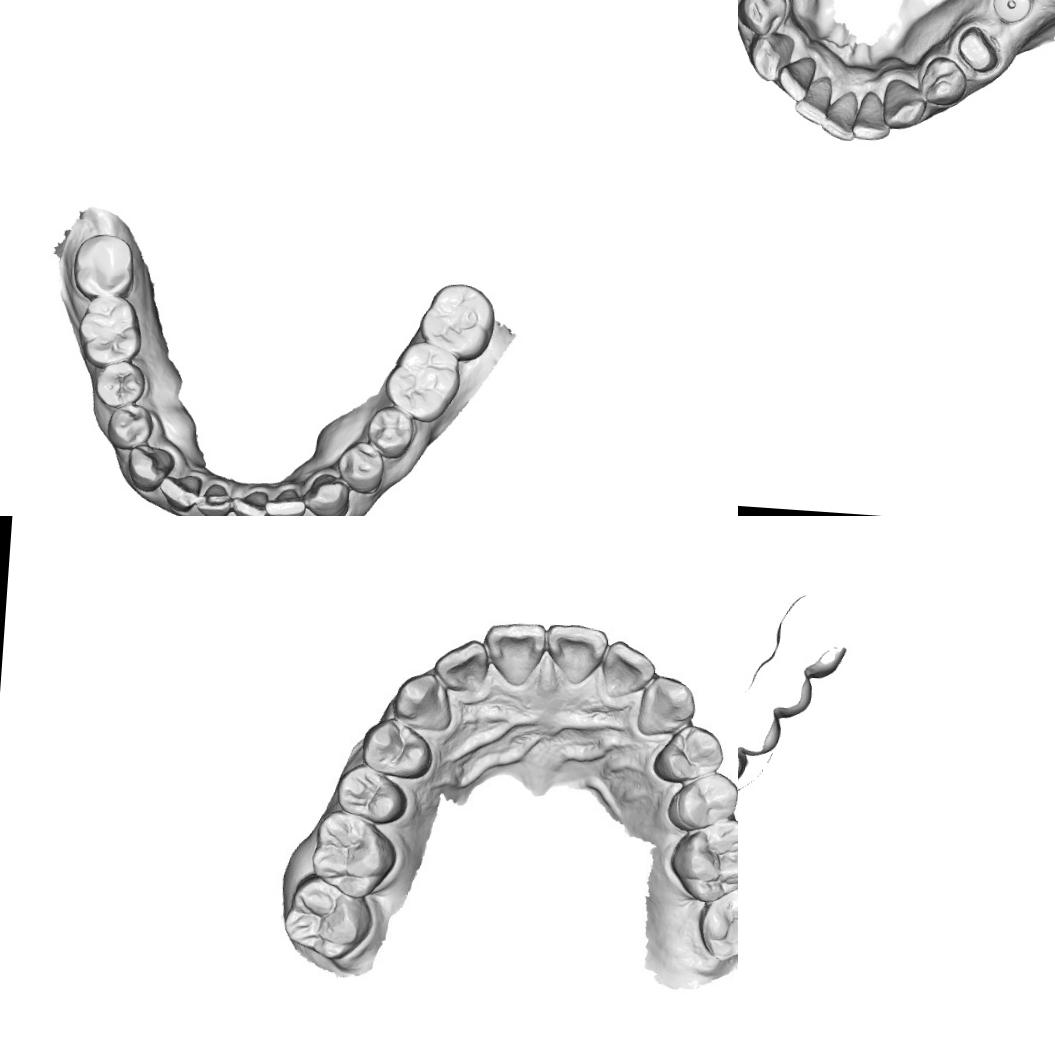canine: (634, 672, 698, 739), (390, 669, 454, 732), (744, 29, 796, 84), (878, 76, 928, 132), (124, 441, 176, 494), (299, 469, 352, 516)
crown: (953, 23, 1001, 76)
implant: (989, 0, 1033, 26)
incisor: (541, 621, 611, 686), (483, 618, 547, 688), (598, 634, 655, 701), (432, 636, 488, 693), (792, 72, 834, 130), (850, 88, 892, 143), (774, 52, 818, 104), (820, 86, 860, 142), (156, 470, 202, 514), (262, 484, 307, 516), (192, 481, 232, 516), (228, 487, 268, 516)
molar: (304, 804, 398, 902), (280, 871, 377, 965), (382, 338, 463, 425), (664, 812, 738, 907), (416, 280, 497, 363), (75, 294, 144, 370), (70, 232, 138, 300), (692, 883, 738, 964)
premolar: (648, 719, 724, 788), (663, 767, 738, 834), (361, 718, 437, 776), (338, 766, 408, 820), (334, 438, 386, 496), (916, 53, 969, 108), (364, 403, 415, 460), (92, 358, 146, 409), (105, 402, 154, 452), (738, 0, 789, 36)
